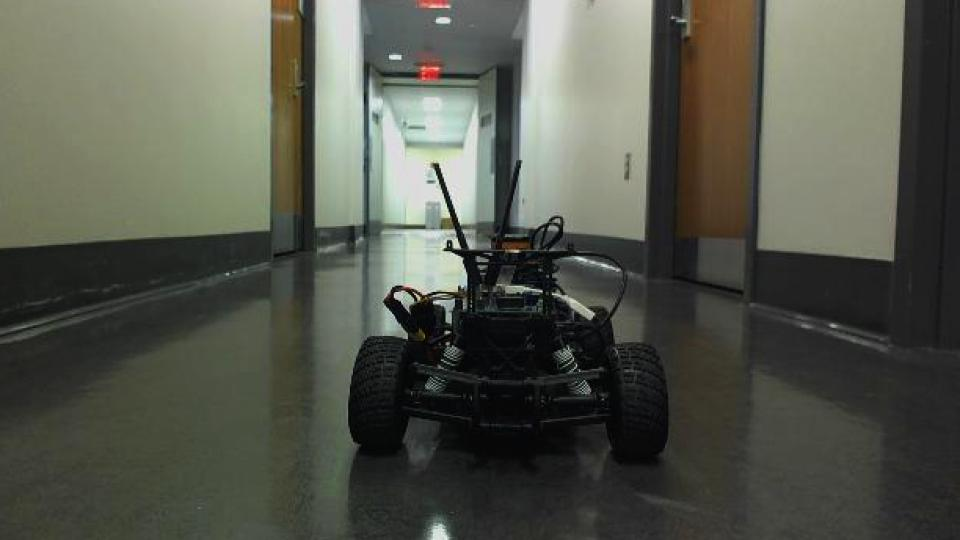car: (344, 157, 672, 463)
